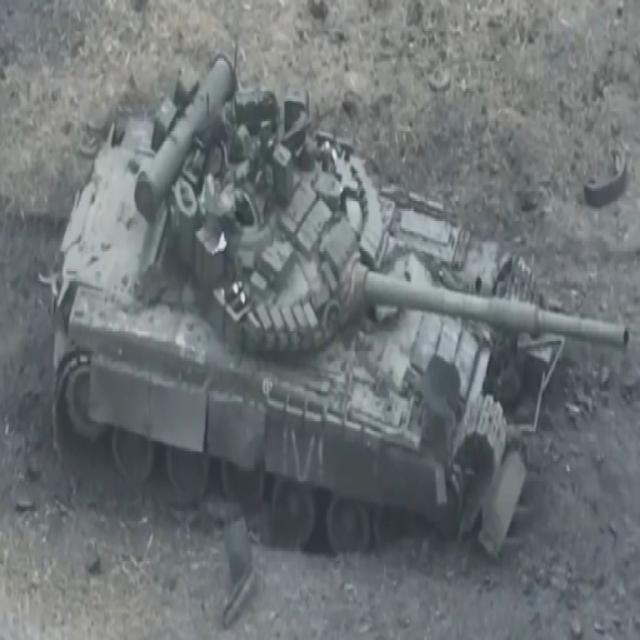TANK: (52, 46, 630, 546)
